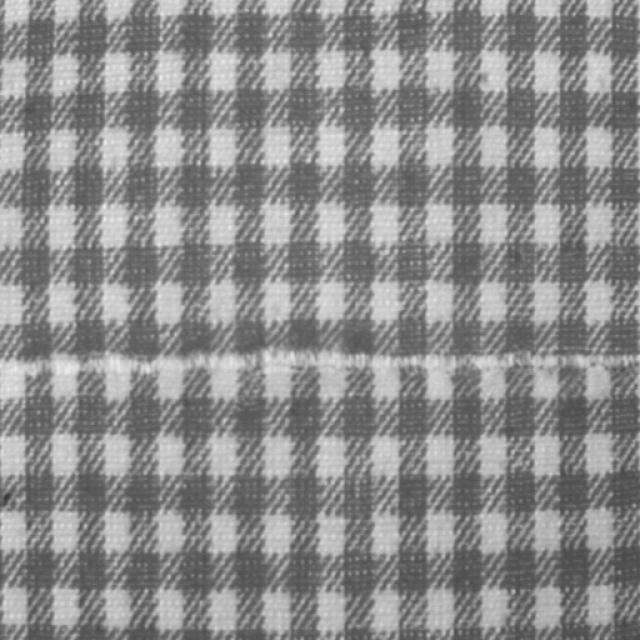Thread-Defect: (0, 349, 636, 374)
